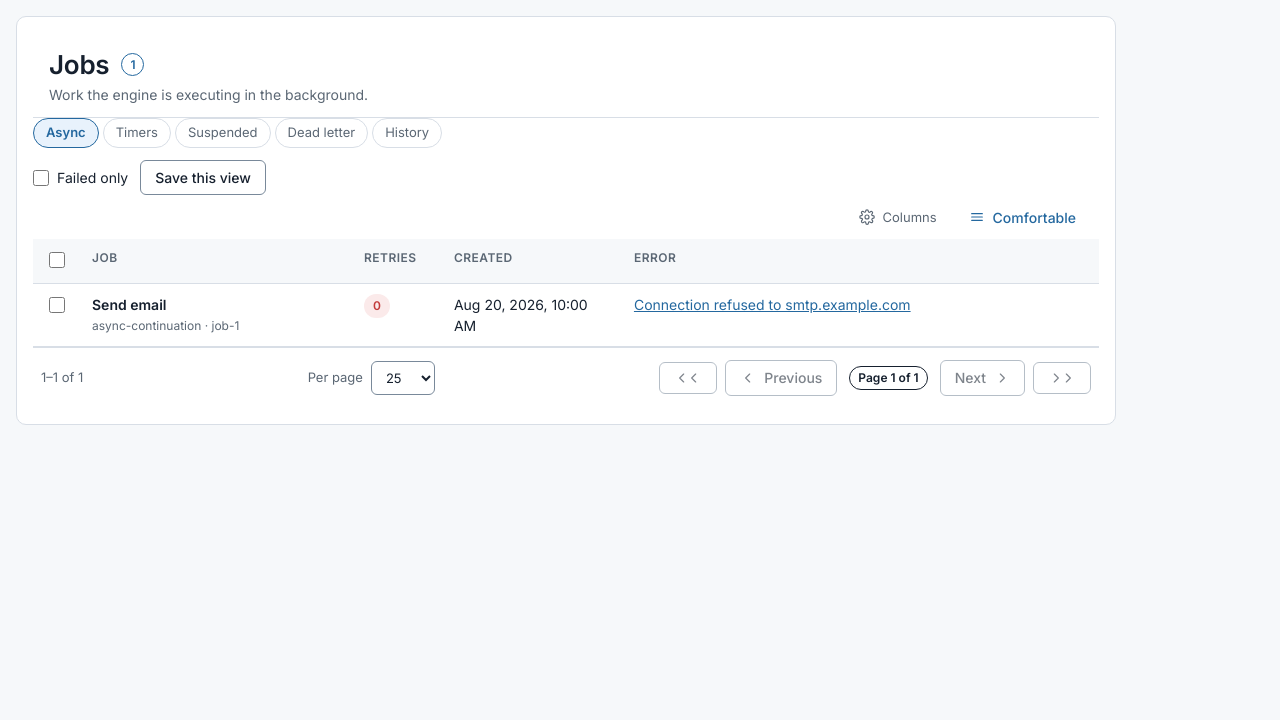
Test: Jobs › warns that deleting a job can stall the instance waiting on it
This screenshot has width=1280, height=720.
Expected: the text "Send email" is shown, [92,296,166,313]
Click the checkbox named "select job job-1".
click(57, 305)  # box [49,297,65,313]
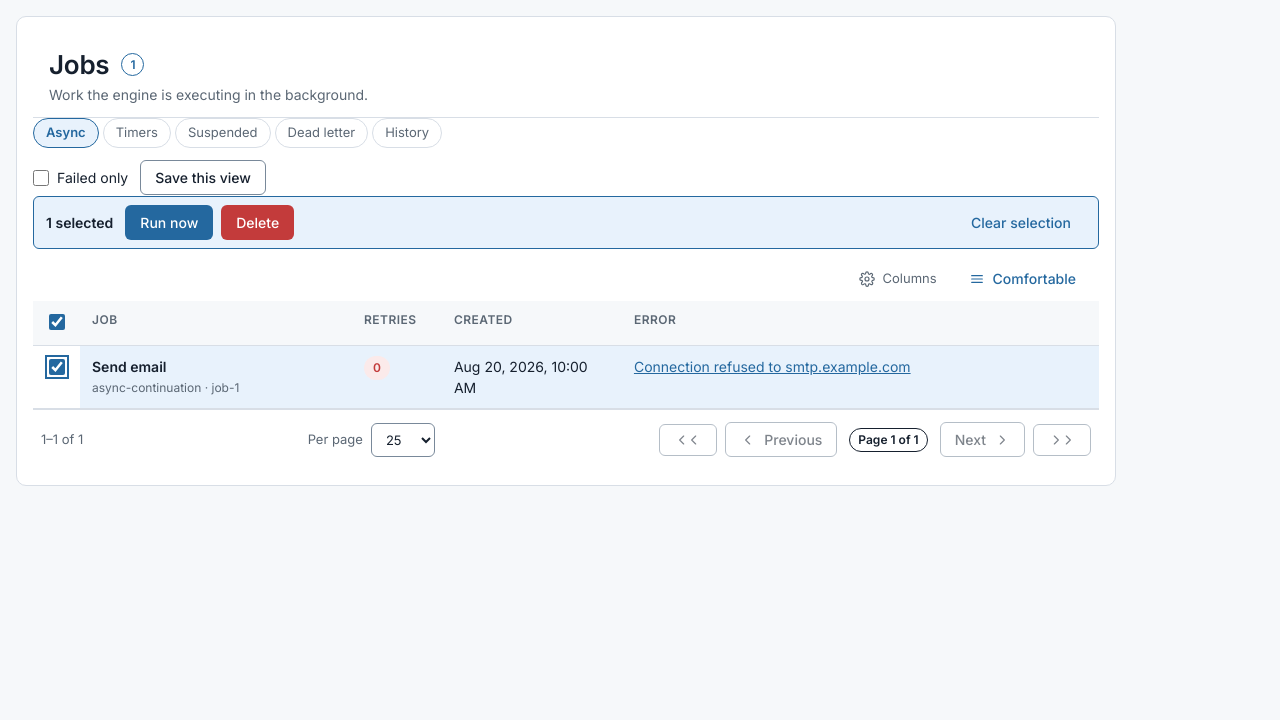
Click the button "Delete".
click(258, 222)  # box [221,205,294,240]
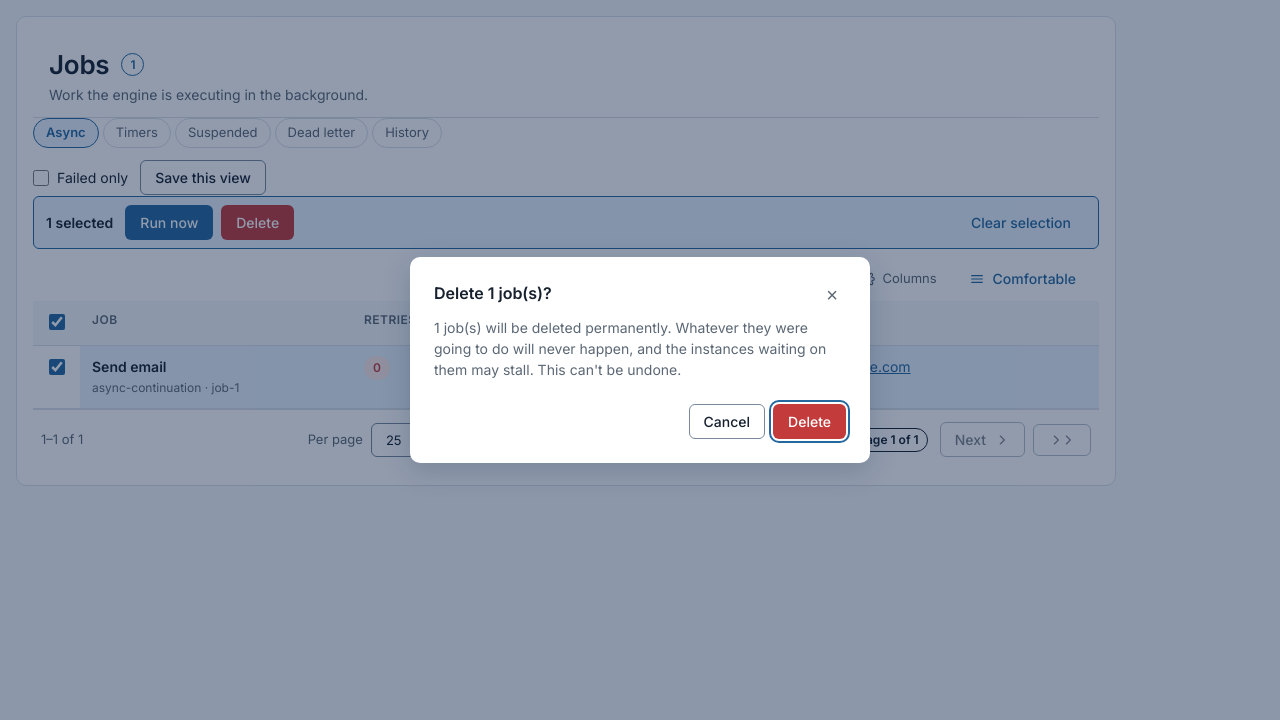
Result: the dialog shows "may stall" at [434,319,826,378]
Result: the dialog shows "can't be undone" at [434,319,826,378]
